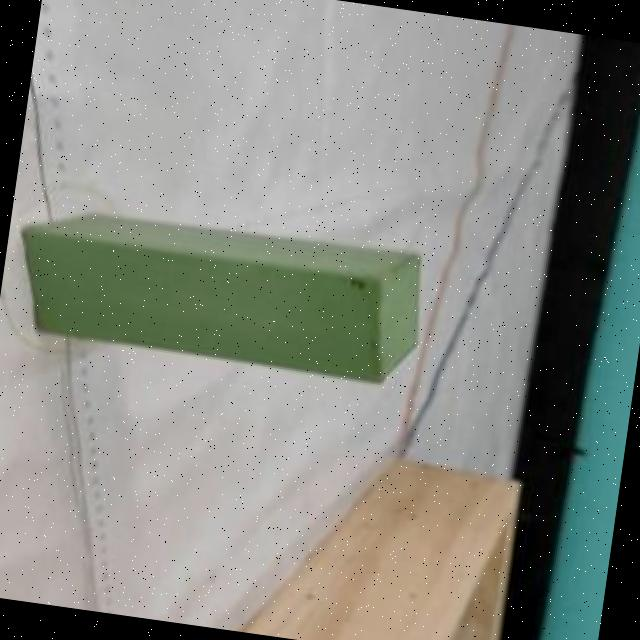greenbox: (2, 195, 437, 392)
